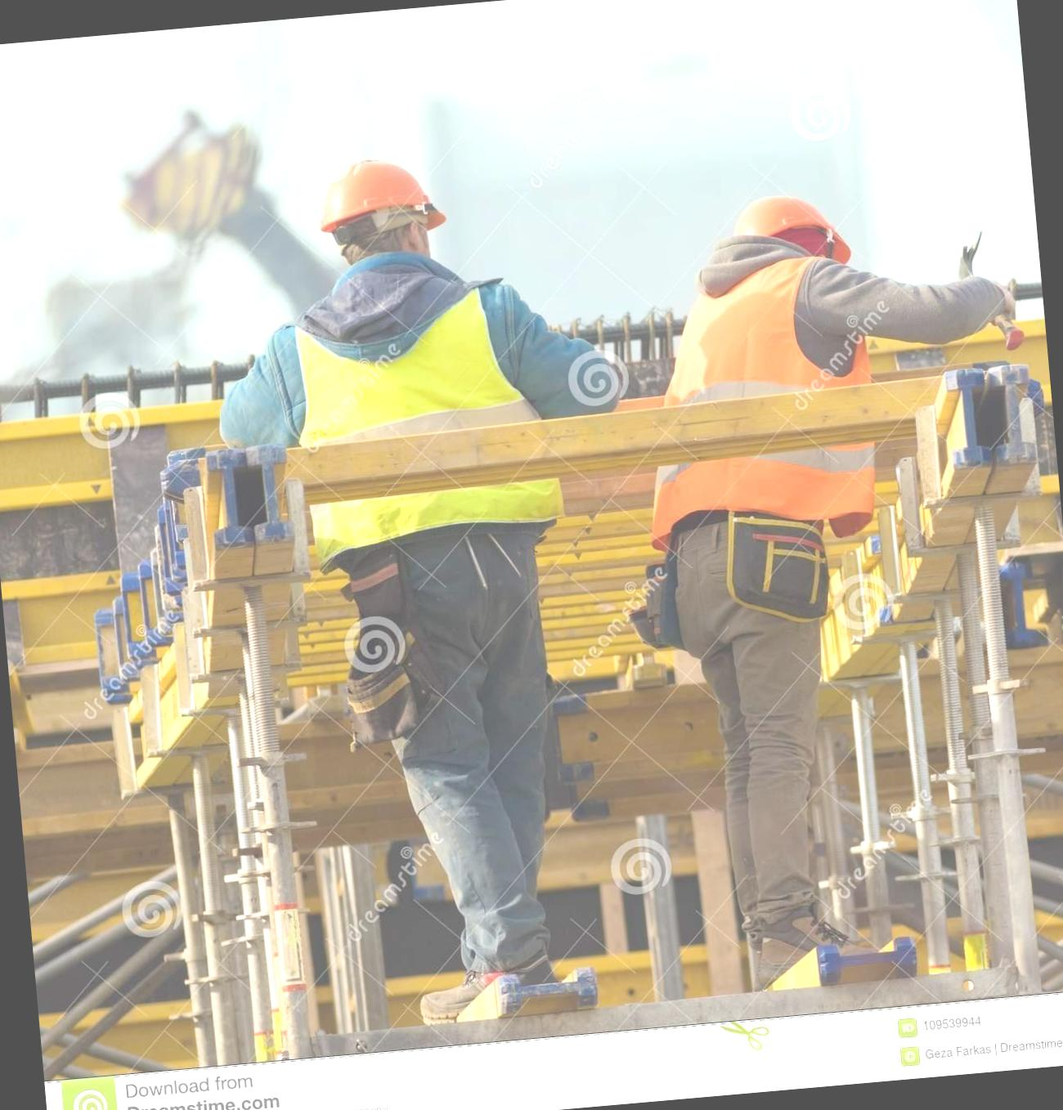person: (173, 139, 673, 1055), (624, 160, 1063, 1028)
